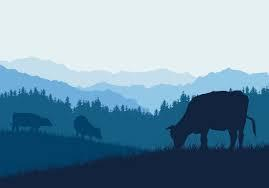cow: (169, 91, 249, 153), (11, 114, 55, 135), (73, 116, 103, 143)
